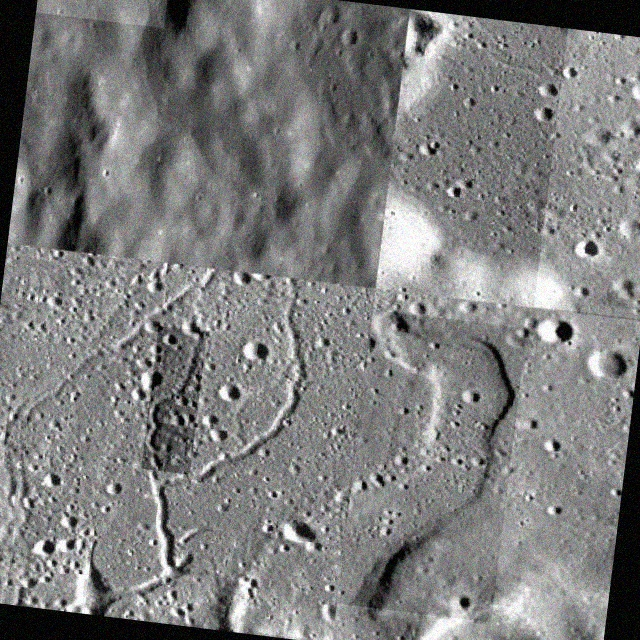crater: (0, 243, 373, 640), (70, 256, 320, 635), (336, 309, 526, 622), (533, 28, 640, 319), (140, 326, 207, 474), (35, 0, 169, 27)
